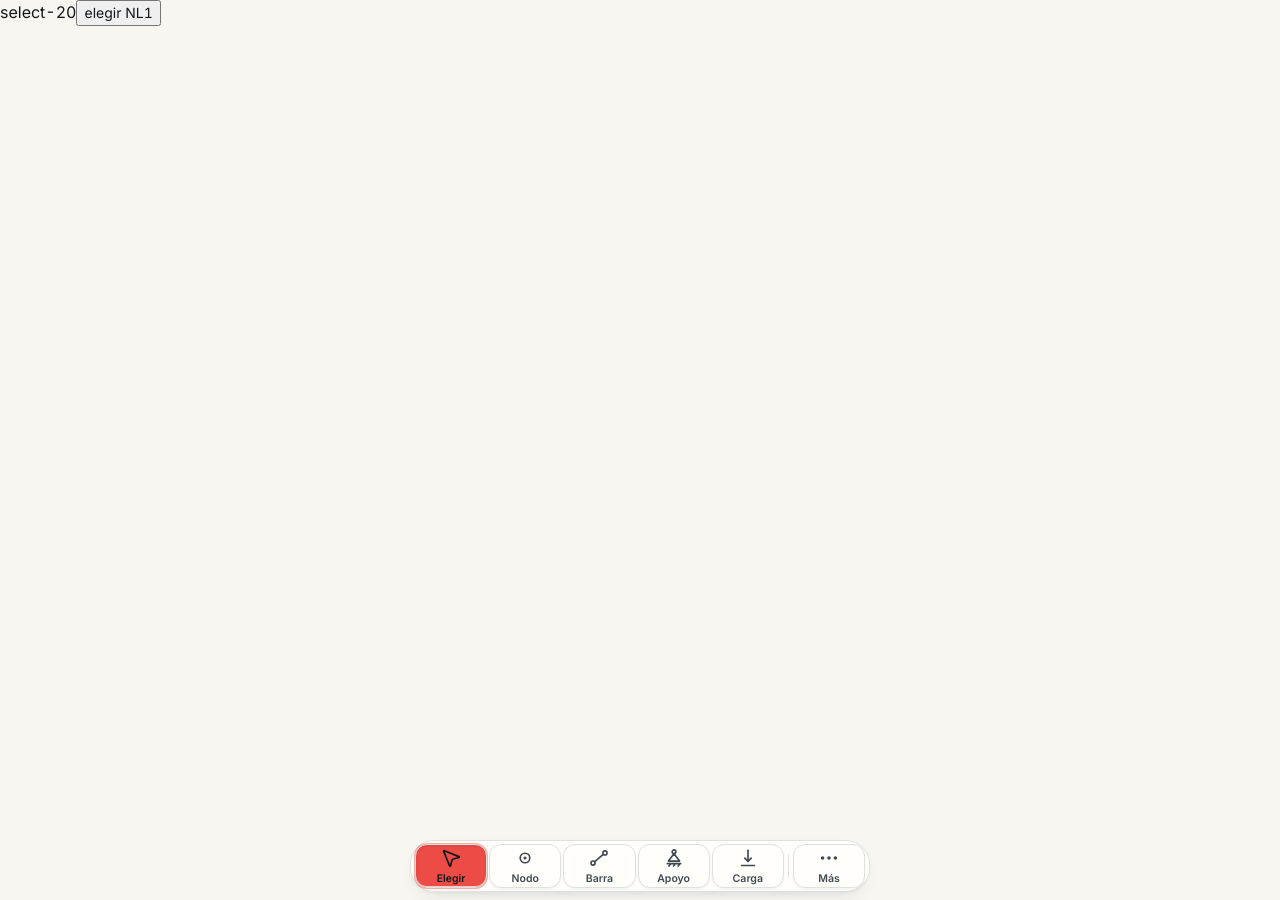
Test: dock dinámico › Más herramientas abre la hoja sin la paleta de comandos y elige Desplazar
The image size is (1280, 900).
Click the button with aria-label "Más herramientas" at coordinates (829, 866), box [793,844,865,888]
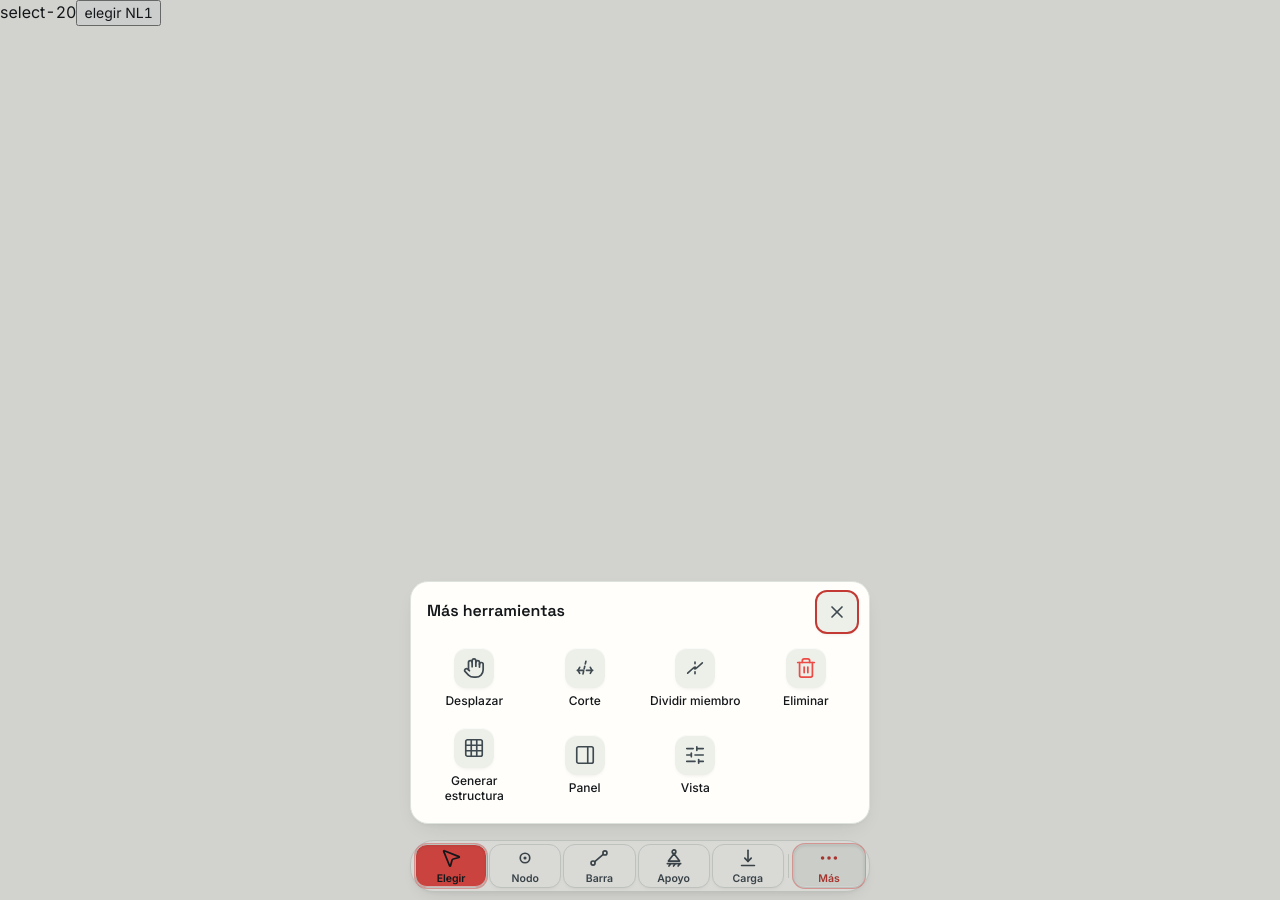
Click the menu item "Desplazar" at coordinates (474, 678), box [421,640,528,716]
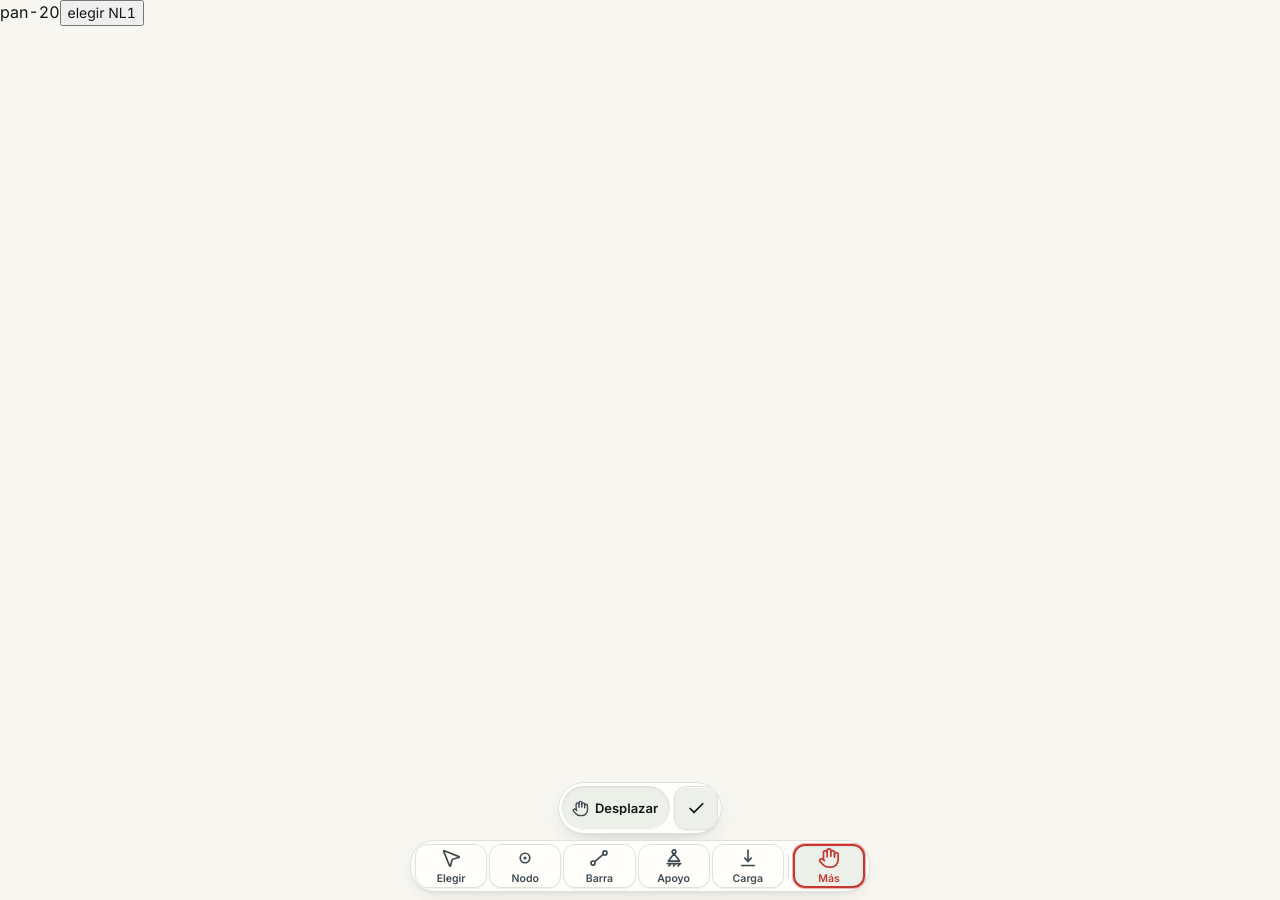
Expected: the text named "herramienta activa" reads "pan", [0,2,28,22]
Expected: the text "Más herramientas" is gone
